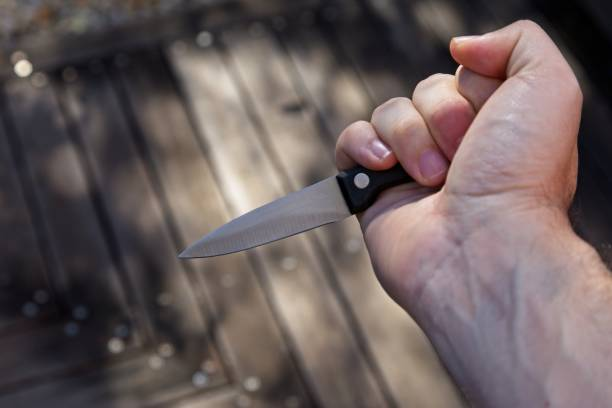knife: (176, 159, 418, 259)
